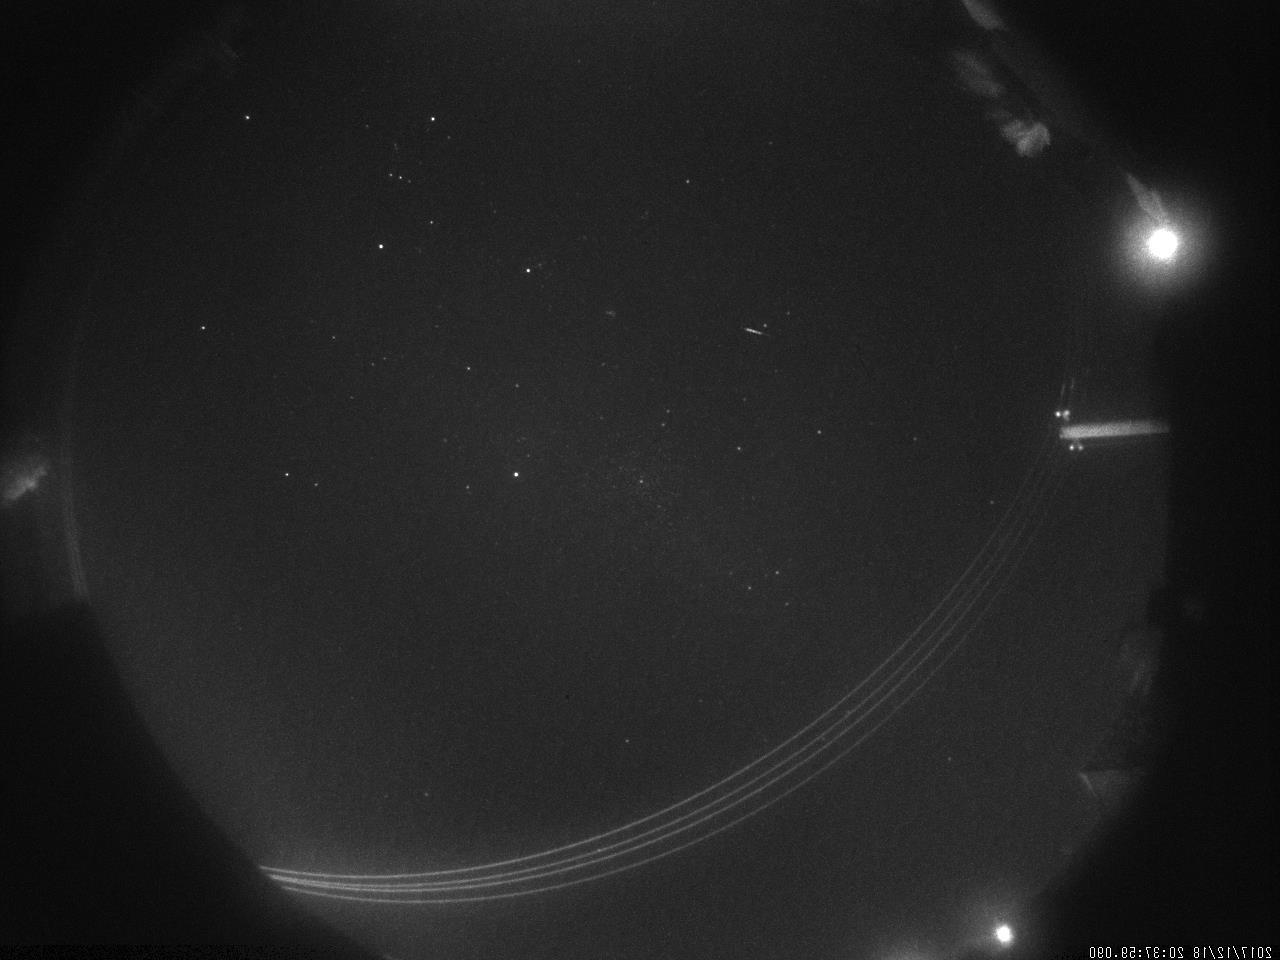meteor: (743, 320, 769, 351)
